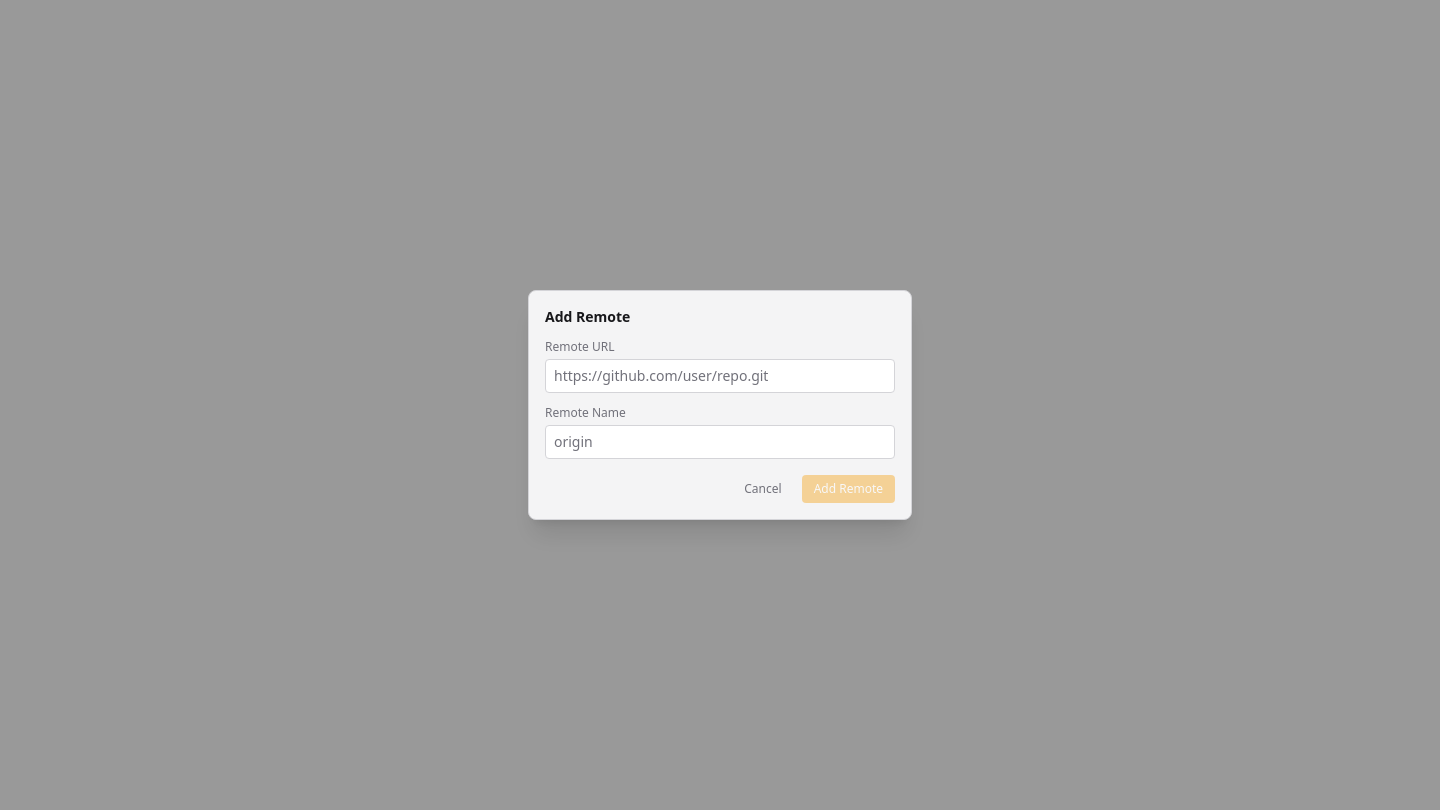
Scenario: AddRemoteDialog › auto-suggests remote name from SSH URL
In the field with test id "add-remote-url": (720, 376) [545, 359, 895, 393], type "ssh://git@codeberg.org/user/repo.git"
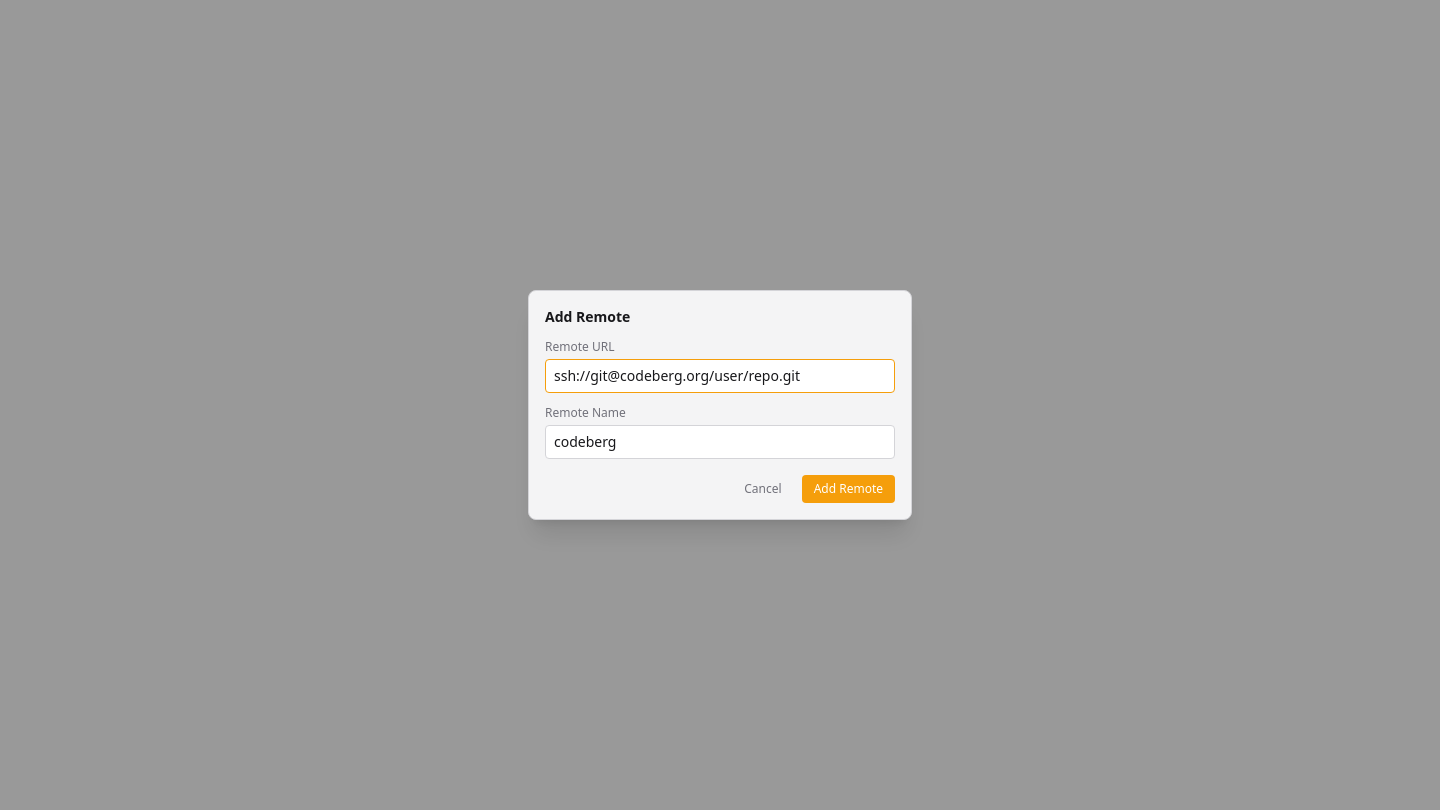
Expected: the field with test id "add-remote-name" holds "codeberg", [545, 425, 895, 459]
